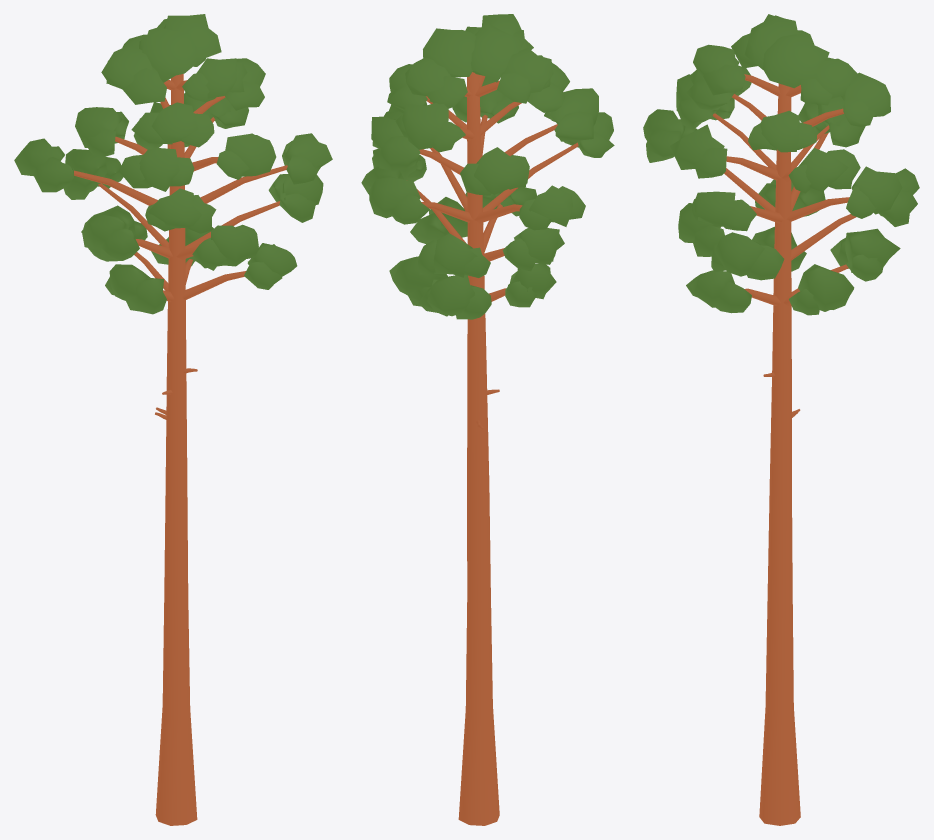
The model's file is Blender_RedPine_1.glb.
3 views of the same model, side by side, from view 1: azimuth 30°, elevation 25°; view 2: azimuth 150°, elevation 25°; view 3: azimuth 270°, elevation 25° (orthographic).
Visible parts, largest first — view 1: Blender_RedPine_1; view 2: Blender_RedPine_1; view 3: Blender_RedPine_1.
Boxes of the visible parts, box(x1,y1,x2,y2) form: Blender_RedPine_1: box(14, 14, 332, 825); Blender_RedPine_1: box(361, 14, 614, 825); Blender_RedPine_1: box(643, 14, 919, 825).
Bounding box in the file's own units: 8.56 × 25.48 × 8.1.
